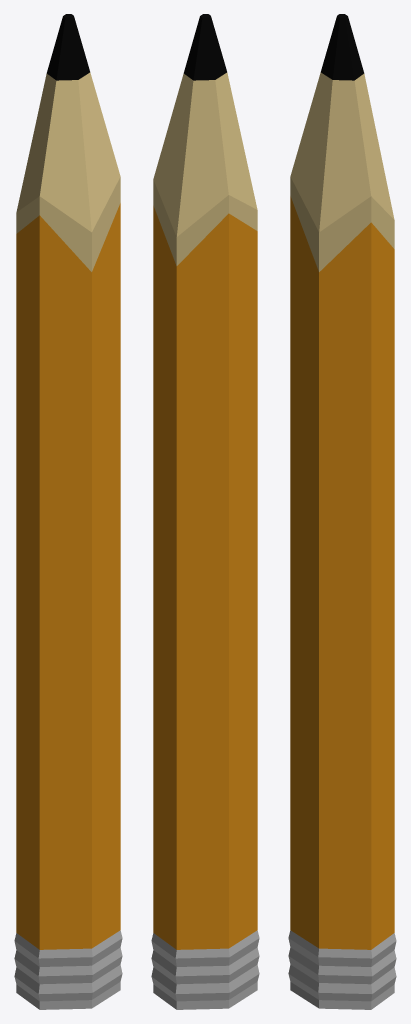
The model's file is pencil.fbx.
3 views of the same model, side by side, from view 1: azimuth 30°, elevation 25°; view 2: azimuth 210°, elevation 25°; view 3: azimuth 330°, elevation 25° (orthographic).
Parts seen in each view (by area): view 1: Cylinder; view 2: Cylinder; view 3: Cylinder.
Part boxes in pixels (x1=…): Cylinder: x1=14, y1=14, x2=122, y2=1009; Cylinder: x1=151, y1=14, x2=259, y2=1009; Cylinder: x1=288, y1=14, x2=396, y2=1009.
Bounding box in the file's own units: 1.8 × 20 × 1.8.
